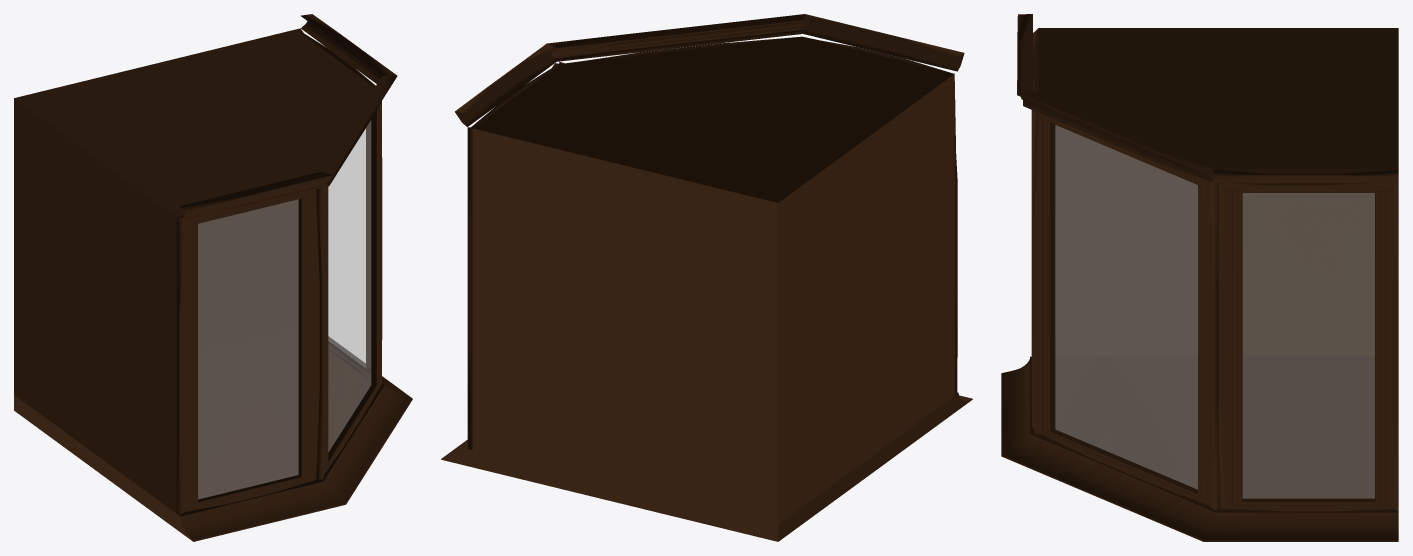
Rendered from sh-contrib-display-cabinet.glb.
The picture shows the model from 3 angles, left to right: view 1: azimuth 30°, elevation 25°; view 2: azimuth 150°, elevation 25°; view 3: azimuth 270°, elevation 25°; orthographic projection. The views are drawn at different scales.
Visible parts, largest first — view 1: DisplayCabinet_1, DisplayCabinet_25; view 2: DisplayCabinet_1; view 3: DisplayCabinet_1, DisplayCabinet_25.
Part boxes in pixels (x1,y1,x2,y2): DisplayCabinet_1: (14, 14, 412, 541); DisplayCabinet_25: (198, 121, 370, 499); DisplayCabinet_1: (441, 14, 972, 541); DisplayCabinet_1: (1001, 14, 1398, 541); DisplayCabinet_25: (1055, 125, 1374, 498).
Size of the model in its own units: 1 by 1 by 1.
